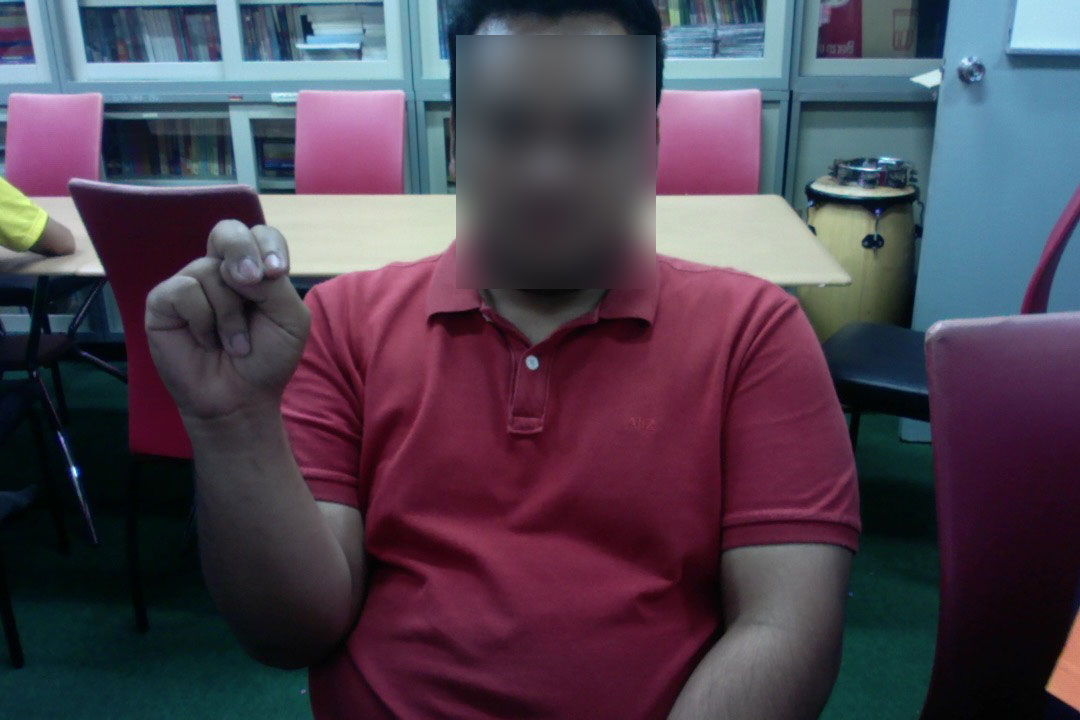nor: (138, 212, 319, 438)
